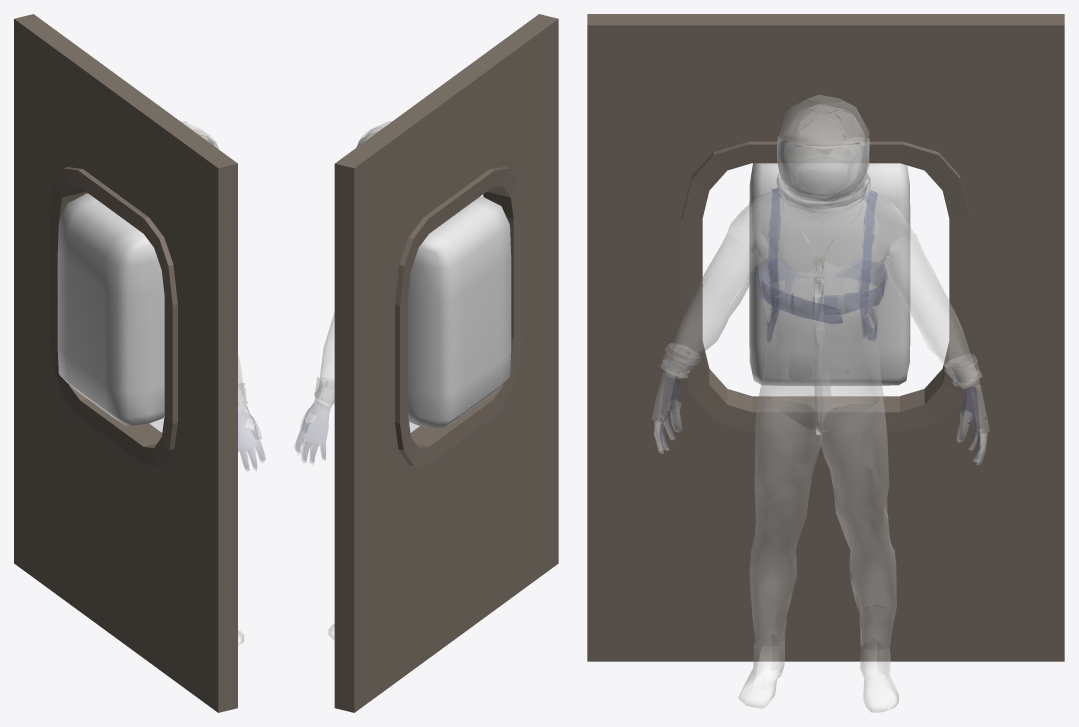
File: suitport.glb
3 renders of one model, left to right at view 1: azimuth 30°, elevation 25°; view 2: azimuth 150°, elevation 25°; view 3: azimuth 270°, elevation 25°, orthographic. The views are drawn at different scales.
Parts seen in each view (by area): view 1: Cube.004, Cube, Mercury Spacesuit; view 2: Cube.004, Cube, Mercury Spacesuit; view 3: Cube.004, Mercury Spacesuit, Cube.
Part boxes in pixels (x1,y1,x2,y2): Cube.004: [14, 14, 237, 712]; Cube: [57, 193, 164, 425]; Mercury Spacesuit: [149, 121, 265, 645]; Cube.004: [334, 14, 558, 712]; Cube: [408, 196, 511, 428]; Mercury Spacesuit: [294, 121, 419, 640]; Cube.004: [587, 14, 1064, 661]; Mercury Spacesuit: [652, 95, 989, 712]; Cube: [749, 163, 910, 385].
Size of the model in its own units: 2.25 by 8.7 by 5.87.
